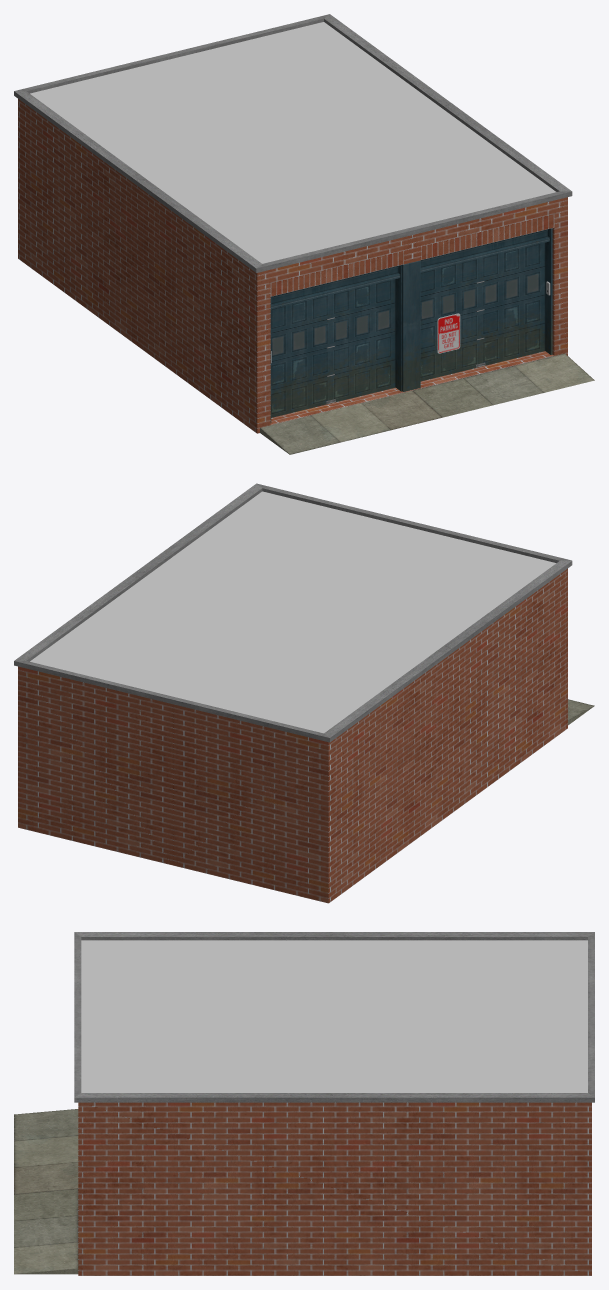
The model's file is Garage_01.fbx.
3 views of the same model, one above another, from view 1: azimuth 30°, elevation 25°; view 2: azimuth 150°, elevation 25°; view 3: azimuth 270°, elevation 25° (orthographic). The views are drawn at different scales.
Visible parts, largest first — view 1: Garage_01_LOD0; view 2: Garage_01_LOD0; view 3: Garage_01_LOD0.
Part boxes in pixels (x1=…): Garage_01_LOD0: x1=14, y1=14, x2=594, y2=454; Garage_01_LOD0: x1=14, y1=483, x2=594, y2=903; Garage_01_LOD0: x1=14, y1=932, x2=594, y2=1275.
Size of what is drawn, in the model's own units: 610 by 308 by 905.
